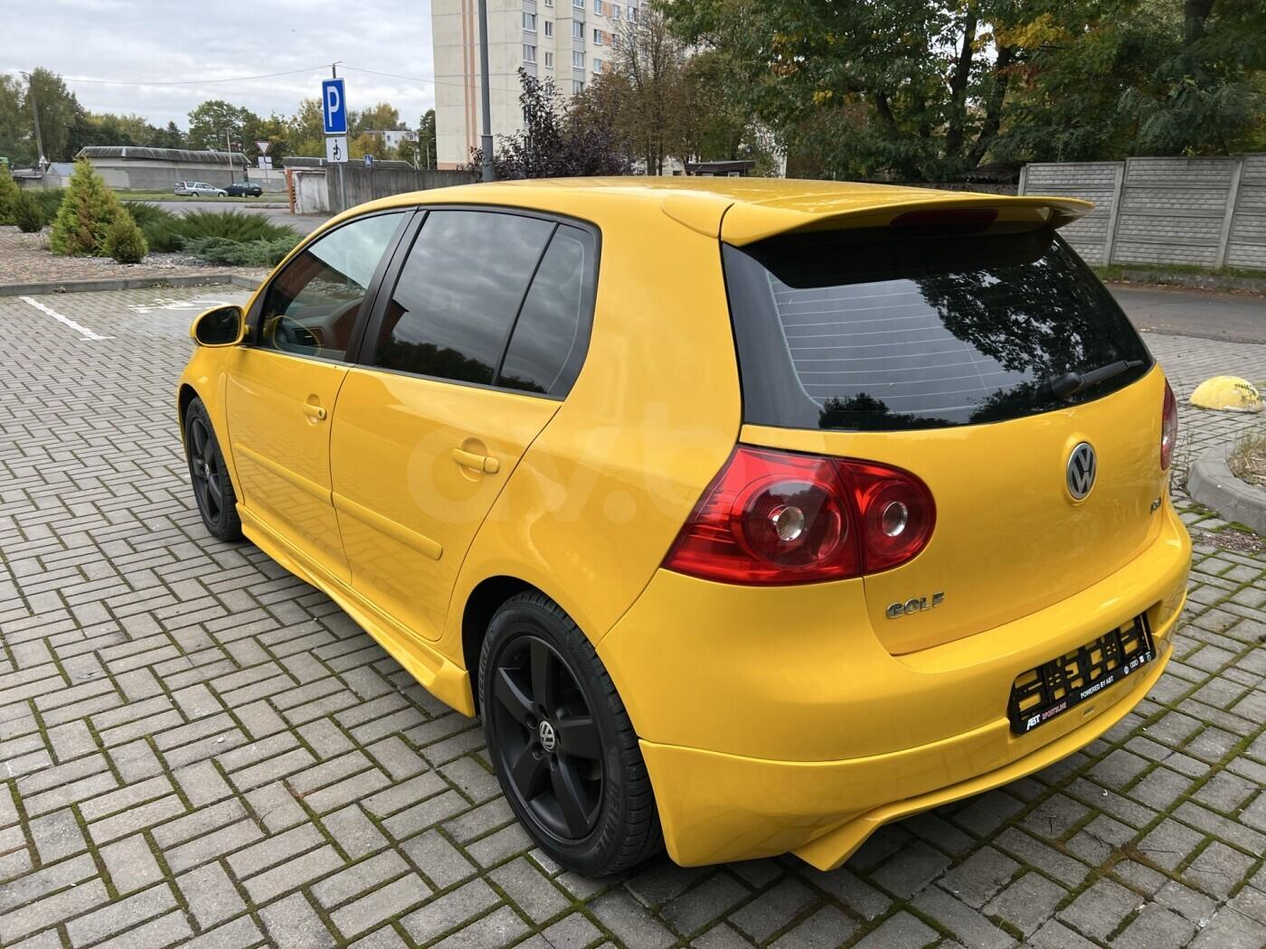Golf_2003-2009: (168, 161, 1184, 899)
